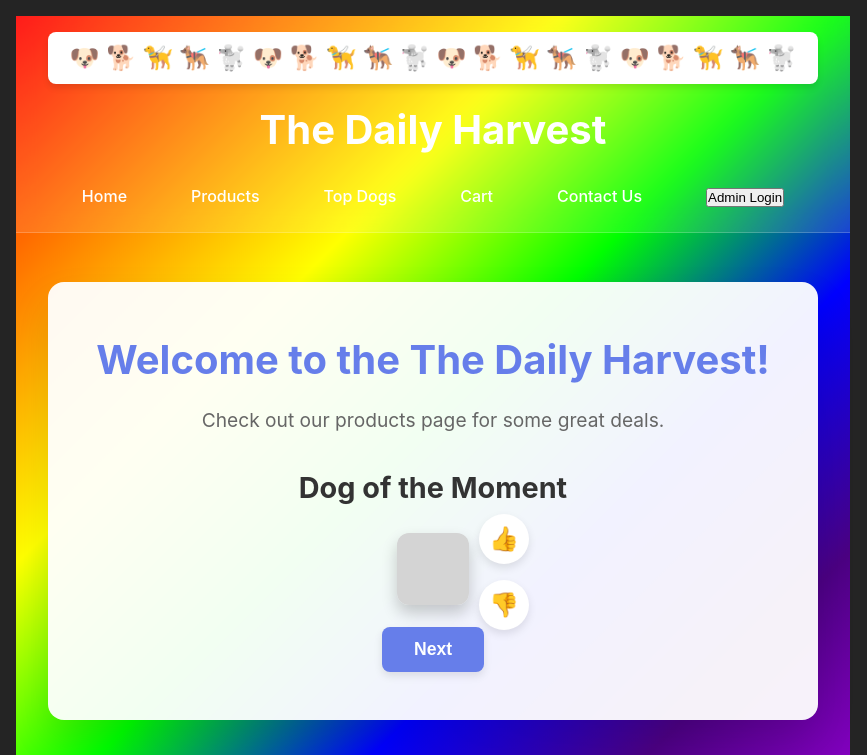
Test: HomePage › should display sad emoji when thumbs down is clicked
Click the button named "thumbs down" at {"x": 504, "y": 606}, box [479,580,529,630]
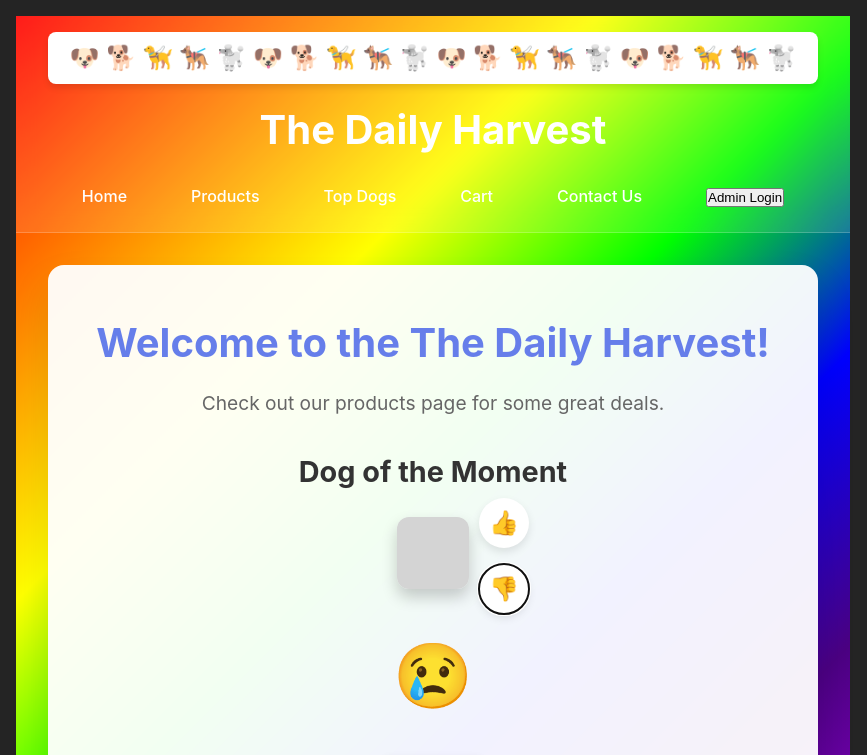
Result: the text with test id "emoji-display" reads "😢" at [393,636,473,713]
